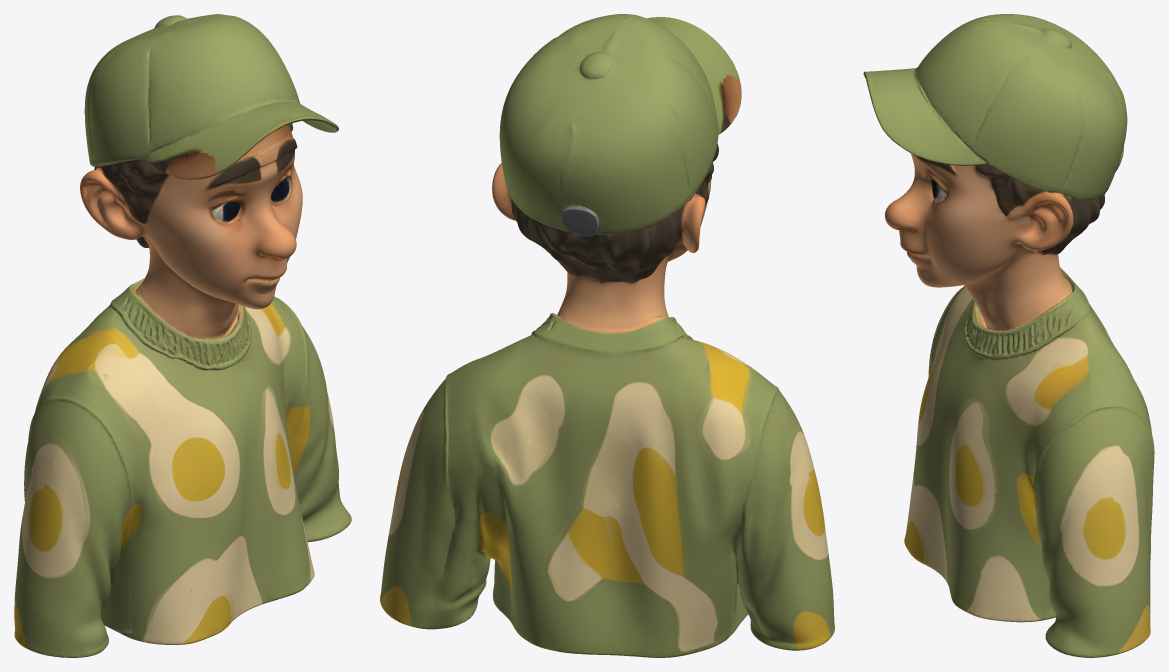
File: MAHDI2.glb
The picture shows the model from 3 angles, left to right: view 1: azimuth 30°, elevation 25°; view 2: azimuth 150°, elevation 25°; view 3: azimuth 270°, elevation 25°; orthographic projection. The views are drawn at different scales.
Visible parts, largest first — view 1: model; view 2: model; view 3: model.
Boxes of the visible parts, x1,y1,x2,y2 form: model: (14,14,351,657); model: (380,14,834,657); model: (863,14,1154,657).
Size of the model in its own units: 1.32 by 1.9 by 0.9094.
1 material, 1 textured.
